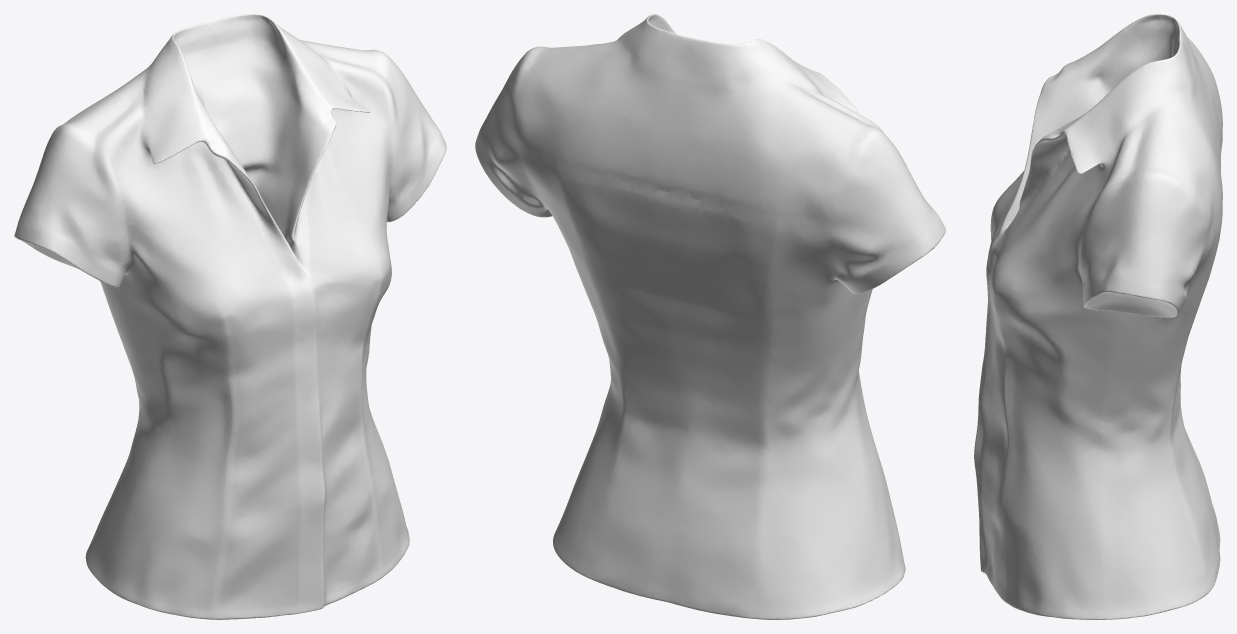
The model's file is Meshy_AI_White_Short_Sleeve_Bu_1022111329_texture.glb.
The picture shows the model from 3 angles, left to right: view 1: azimuth 30°, elevation 25°; view 2: azimuth 150°, elevation 25°; view 3: azimuth 270°, elevation 25°; orthographic projection. The views are drawn at different scales.
Bounding box in the file's own units: 1.6 × 1.9 × 0.8089.
1 material, 1 textured.
